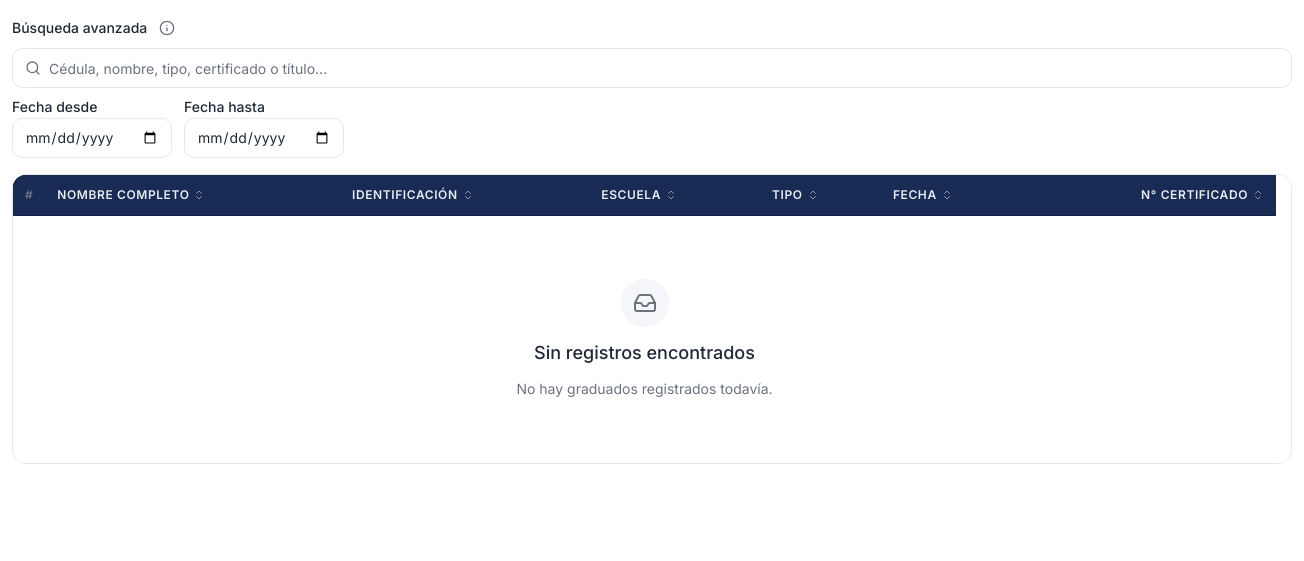
Test case: Consultar — estados › ofrece limpiar filtros cuando no hay resultados con filtros activos
Expected: the button "Limpiar filtros" is not shown
Expected: the text "No hay graduados registrados todavía." is shown, [516,379,772,399]
In the field labelled "Búsqueda avanzada": (652, 68) [13,49,1291,87], type "zzz"
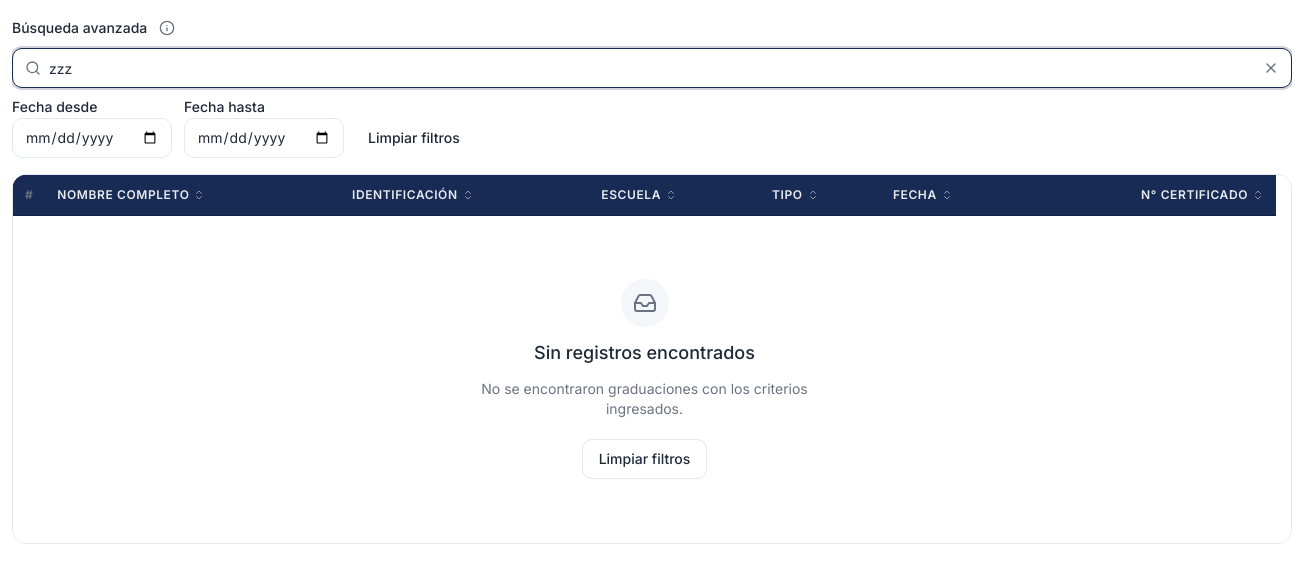
Now the text "No se encontraron graduaciones con los criterios ingresados." is shown, box [452,379,836,419]
Click the button "Limpiar filtros" below "Fecha desde": (414, 138) [356,120,472,156]
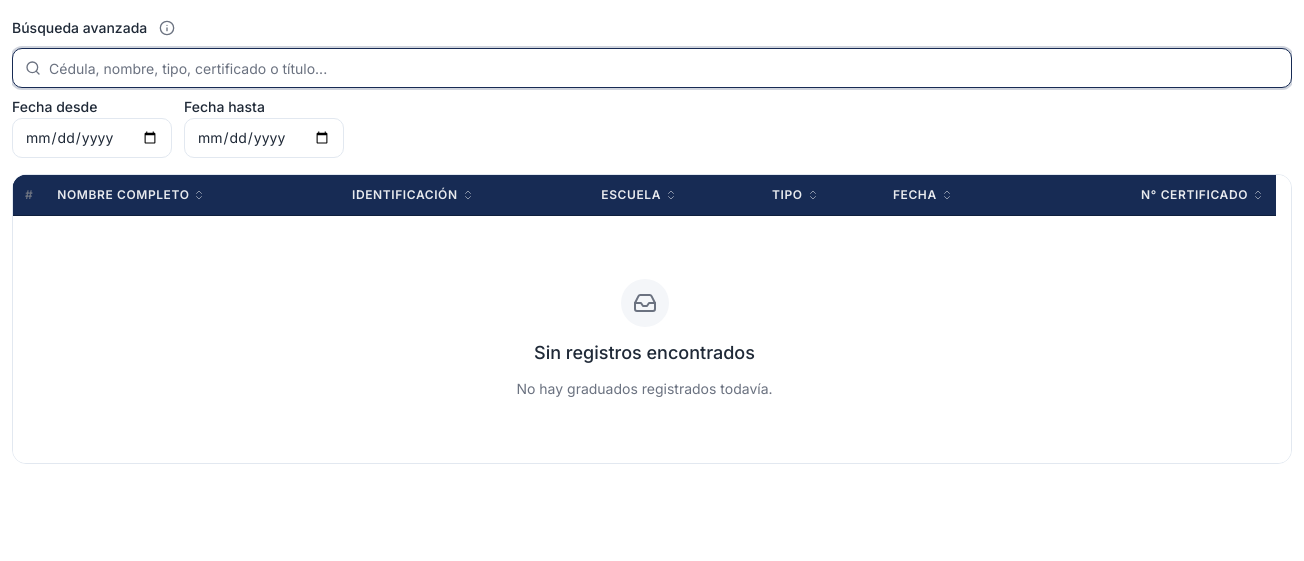
Now the field labelled "Búsqueda avanzada" is empty, box [13,49,1291,87]
